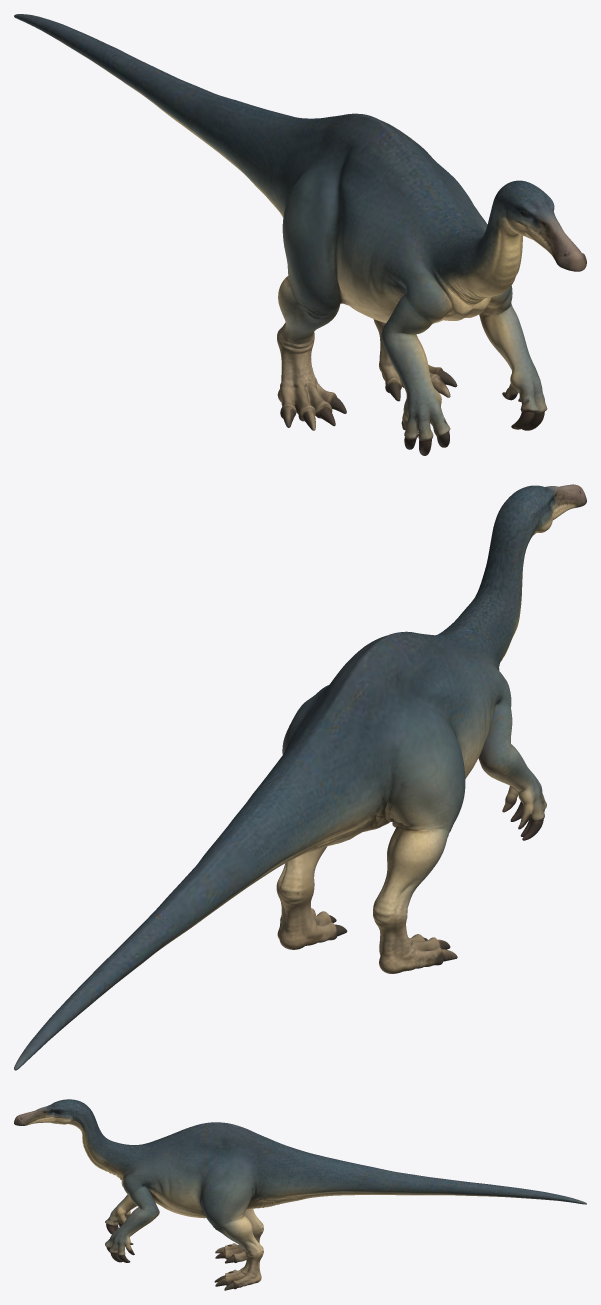
3 renders of one model, top to bottom at view 1: azimuth 30°, elevation 25°; view 2: azimuth 150°, elevation 25°; view 3: azimuth 270°, elevation 25°, orthographic. The views are drawn at different scales.
Parts seen in each view (by area): view 1: Authored orientation; view 2: Authored orientation; view 3: Authored orientation.
Boxes of the visible parts, bbox=[...] form: Authored orientation: bbox=[14, 14, 586, 455]; Authored orientation: bbox=[14, 484, 586, 1070]; Authored orientation: bbox=[14, 1099, 586, 1290].
Size of the model in its own units: 0.1738 by 0.3286 by 1.
1 material, 1 textured.
